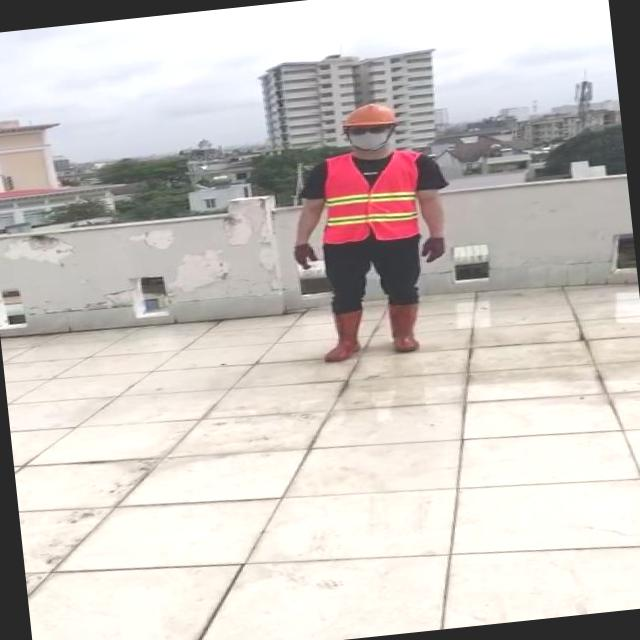boots: (316, 306, 368, 362), (382, 297, 427, 354)
helmet: (340, 100, 400, 130)
vest: (310, 146, 433, 248)
